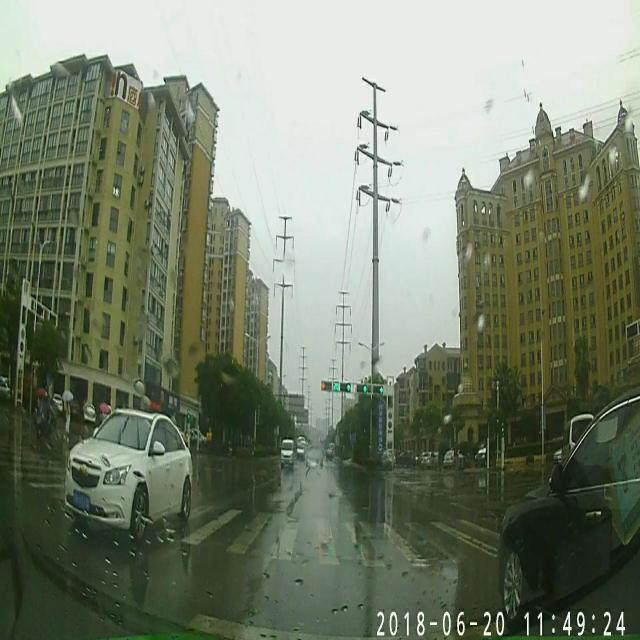car: (496, 400, 638, 624), (64, 410, 192, 534), (279, 436, 294, 466), (296, 433, 306, 459), (325, 446, 333, 461)
